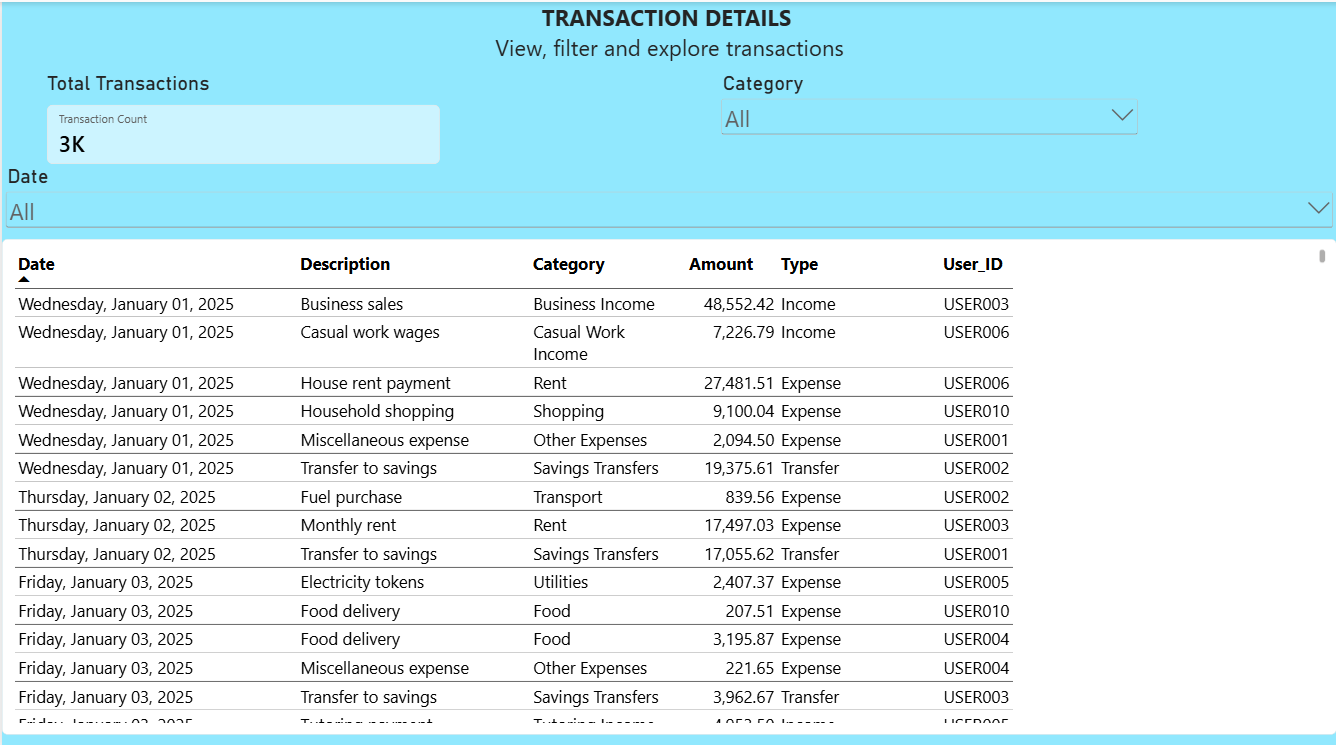

The dashboard page shown, as its layout file describes it:
{"tool":"powerbi","page":{"name":"Transaction Details","canvas":[1920,1080],"ordinal":1},"visuals":[{"type":"tableEx","fields":{"Values":["synthetic_financial_transactions.Date","synthetic_financial_transactions.Description","synthetic_financial_transactions.Category","synthetic_financial_transactions.Amount","synthetic_financial_transactions.Type","synthetic_financial_transactions.User_ID"]},"box":[0,339.8,1920.4,712.5],"z":0},{"type":"slicer","fields":{"Values":["synthetic_financial_transactions.Category"]},"box":[1029,99.2,609.5,167.2],"z":1000},{"type":"slicer","fields":{"Values":["synthetic_financial_transactions.Date"]},"box":[0,232.4,1920.4,107.4],"z":2000},{"type":"cardVisual","title":"Total Transactions","fields":{"Data":["synthetic_financial_transactions.Transaction Count"]},"box":[65.8,98.6,565.6,133.7],"z":3000},{"type":"textbox","box":[0,0,1920.4,94.3],"z":4000}]}

Visuals, with their boxes in screenshot pixels (x1, y1, x2, y2), scaled from the page's 1920x1080 canvas onto the 1336x745 screenshot:
tableEx - synthetic_financial_transactions.Date x synthetic_financial_transactions.Description: rect(0, 234, 1335, 726)
slicer - synthetic_financial_transactions.Category: rect(716, 68, 1140, 184)
slicer - synthetic_financial_transactions.Date: rect(0, 160, 1335, 234)
"Total Transactions" cardVisual: rect(46, 68, 439, 160)
textbox: rect(0, 0, 1335, 65)
